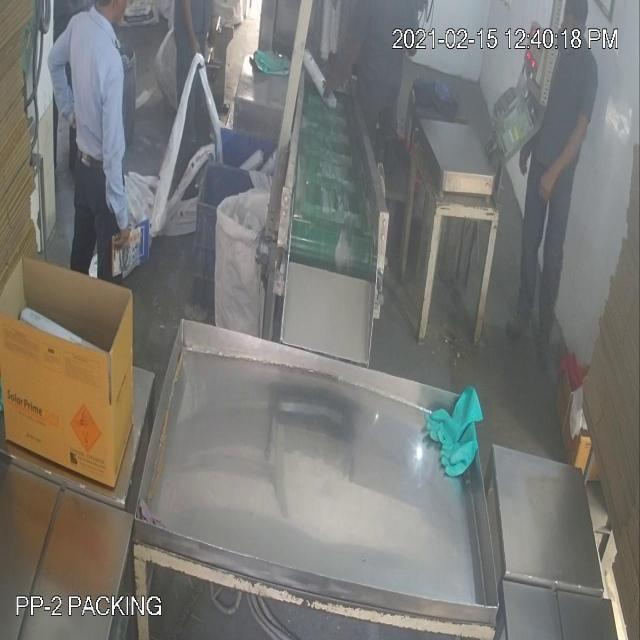No_Gloves: (26, 38, 566, 434)
